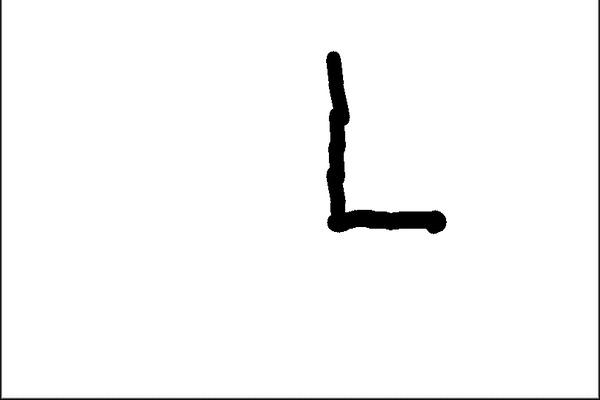L: (317, 43, 453, 237)
